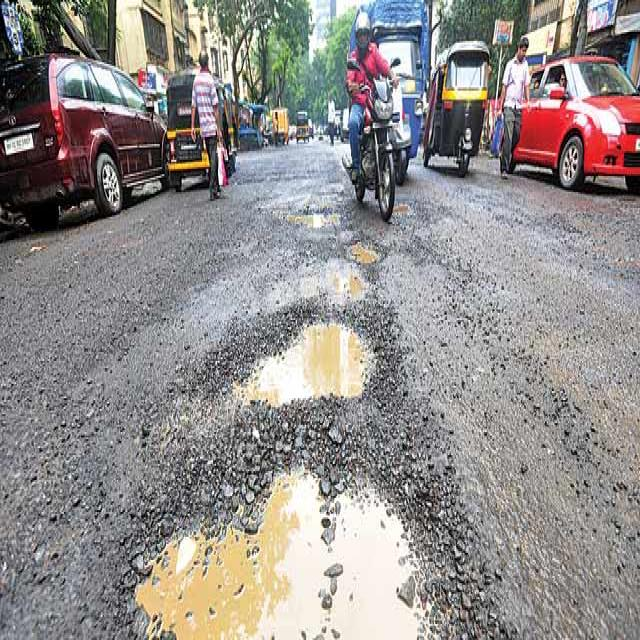pothole1: (123, 442, 453, 640), (197, 300, 383, 407), (265, 184, 363, 249), (316, 260, 376, 307), (349, 220, 384, 262), (398, 196, 413, 223)
